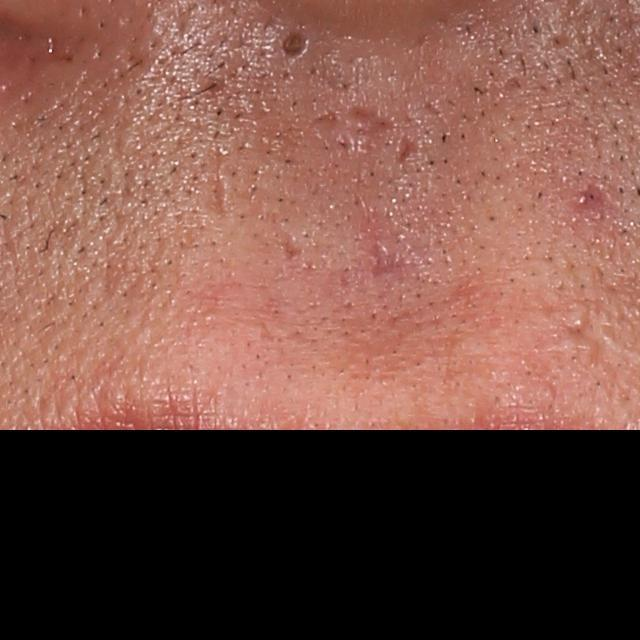atrophic_scar: (357, 242, 432, 295), (568, 170, 624, 219), (348, 107, 394, 165), (538, 30, 606, 65), (471, 73, 536, 109), (279, 228, 309, 279), (210, 153, 227, 233), (395, 129, 419, 168)
comedo: (276, 24, 312, 63)
